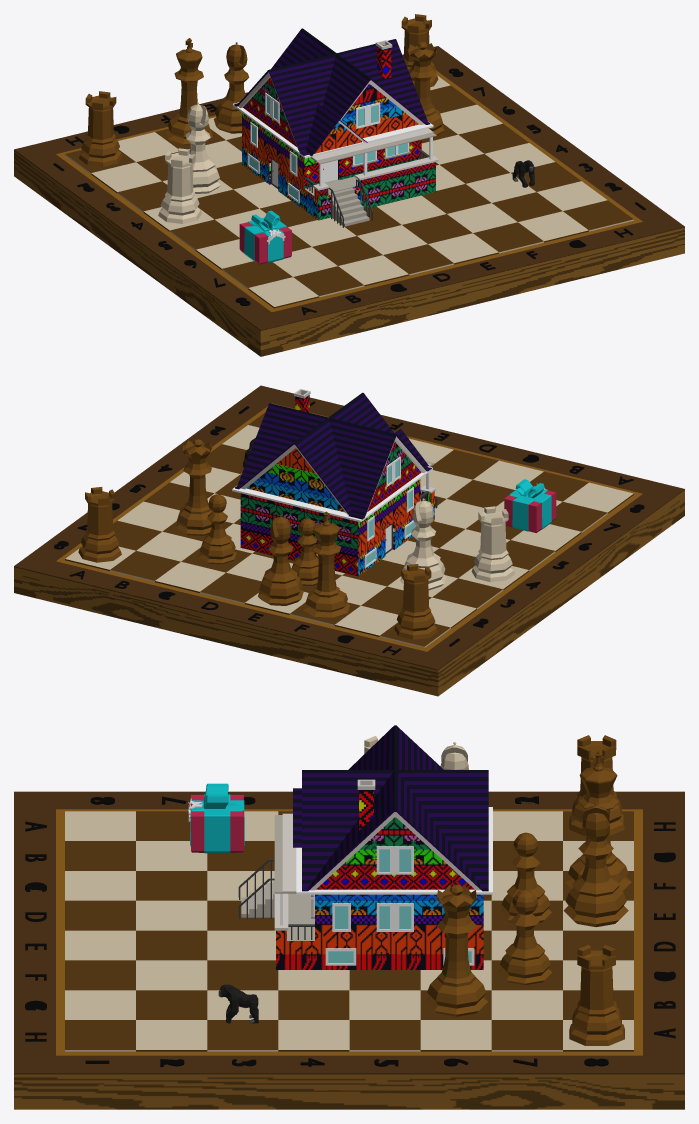
3 views of the same model, one above another, from view 1: azimuth 30°, elevation 25°; view 2: azimuth 150°, elevation 25°; view 3: azimuth 270°, elevation 25° (orthographic). The views are drawn at different scales.
Parts seen in each view (by area): view 1: Cube.002, Cube.966, OBJRANDOM_GIANT_PRESENT; view 2: Cube.002, Cube.966, OBJRANDOM_GIANT_PRESENT; view 3: Cube.002, Cube.966, OBJRANDOM_GIANT_PRESENT, ANIMAL_GORILA.
Boxes of the visible parts, x1,y1,x2,y2 form: Cube.002: (14, 14, 684, 356); Cube.966: (232, 28, 438, 227); OBJRANDOM_GIANT_PRESENT: (239, 210, 291, 264); Cube.002: (14, 385, 684, 696); Cube.966: (232, 389, 437, 576); OBJRANDOM_GIANT_PRESENT: (504, 479, 556, 532); Cube.002: (14, 735, 684, 1109); Cube.966: (238, 725, 492, 969); OBJRANDOM_GIANT_PRESENT: (188, 783, 244, 853); ANIMAL_GORILA: (218, 984, 258, 1023).
Bounding box in the file's own units: 3981 × 1462 × 4012.
31 materials, 6 textured.
